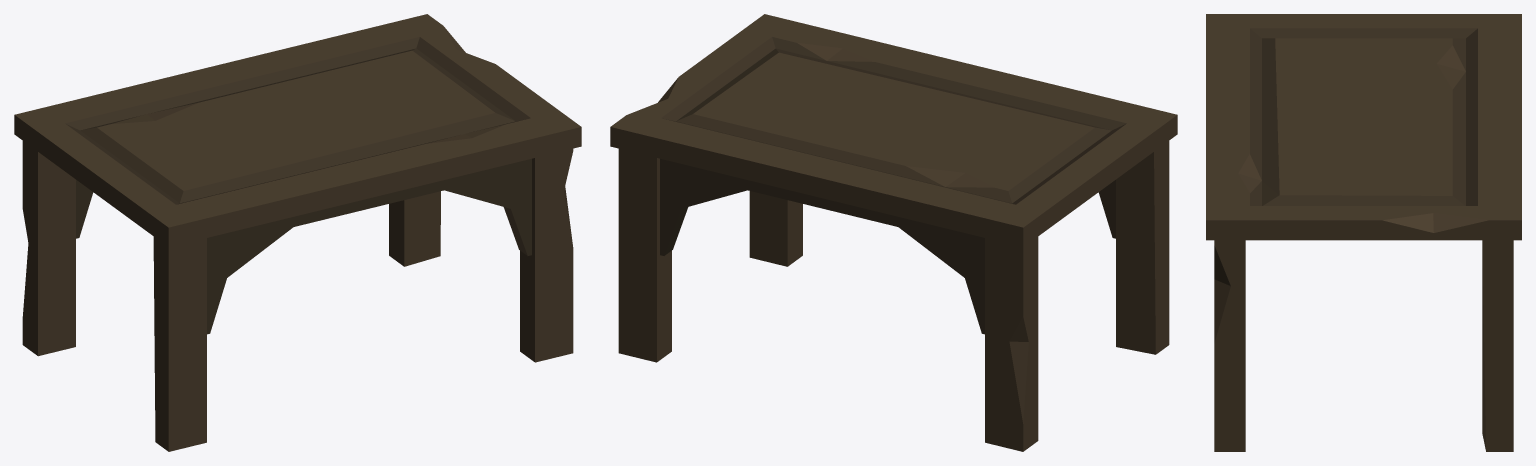
File: SM_Prop_Bedside_Table_01.glb
The picture shows the model from 3 angles, left to right: view 1: azimuth 30°, elevation 25°; view 2: azimuth 150°, elevation 25°; view 3: azimuth 270°, elevation 25°; orthographic projection. The views are drawn at different scales.
Visible parts, largest first — view 1: SM_Prop_Bedside_Table_01; view 2: SM_Prop_Bedside_Table_01; view 3: SM_Prop_Bedside_Table_01.
Boxes of the visible parts, x1,y1,x2,y2 form: SM_Prop_Bedside_Table_01: (14, 14, 581, 451); SM_Prop_Bedside_Table_01: (610, 14, 1177, 451); SM_Prop_Bedside_Table_01: (1206, 14, 1521, 451).
Bounding box in the file's own units: 1.24 × 0.6528 × 0.799.
1 material, 1 textured.
